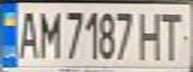1: (81, 8, 100, 60)
7: (112, 8, 139, 61), (60, 7, 84, 60)
8: (97, 8, 118, 60)
A: (12, 7, 42, 60)
H: (136, 7, 166, 61)
M: (33, 7, 63, 60)
T: (154, 7, 190, 62)
